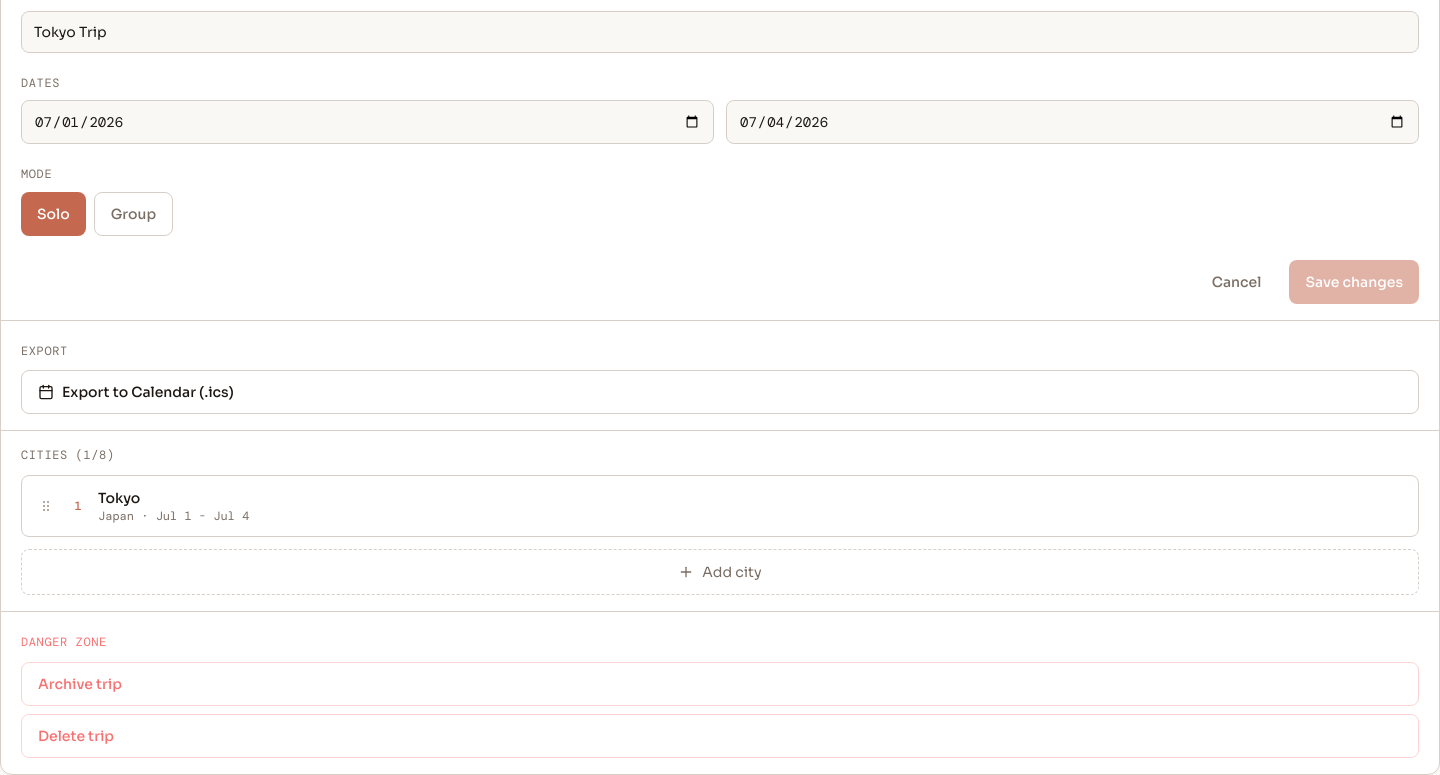
Scenario: TripSettings — delete confirmation › delete shows confirmation, cancel aborts
(page scrolled)
// Click delete to show confirmation
Click the button "Delete trip".
click(76, 736)  # box x1=21 y1=714 x2=1419 y2=758
(page scrolled)
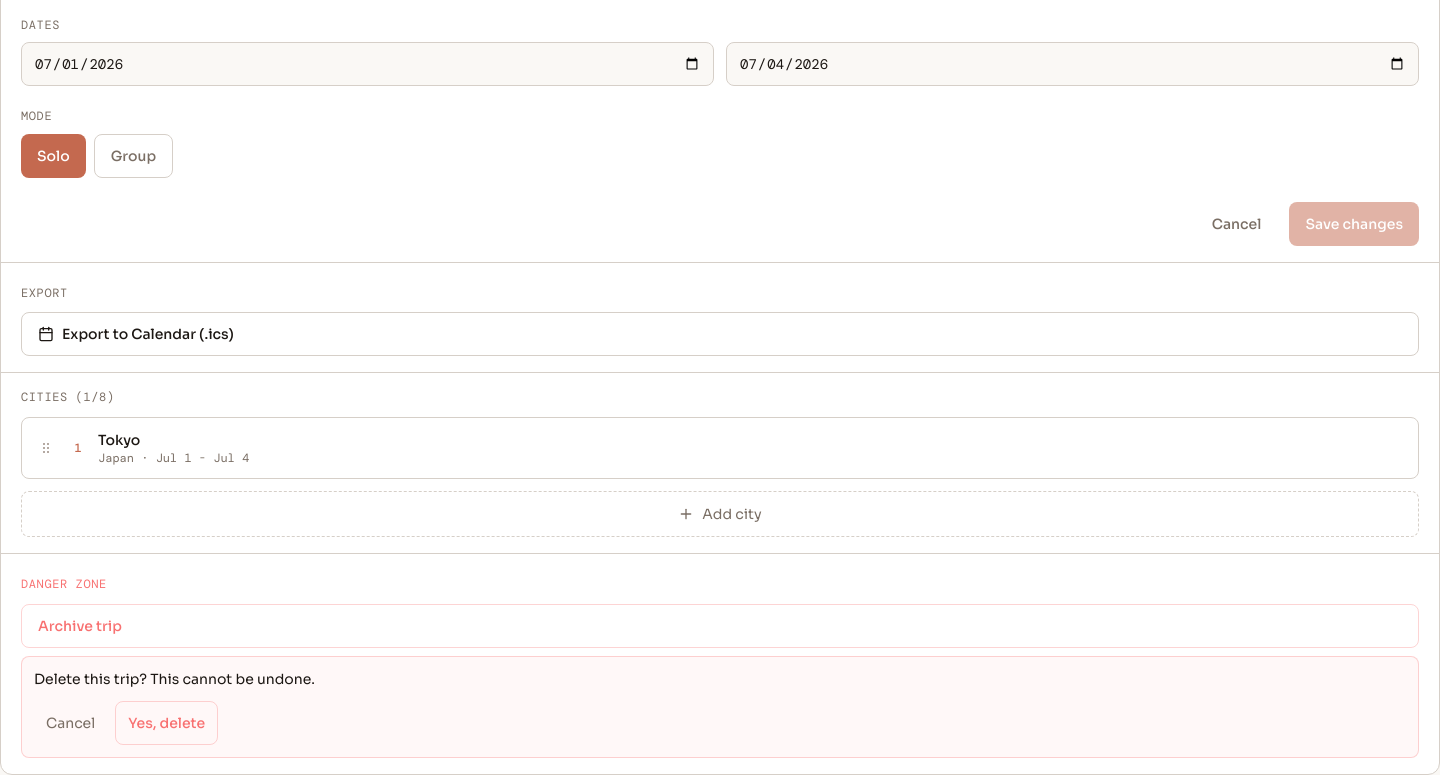
Check: the text "Delete this trip? This cannot be undone." is shown, box x1=34 y1=670 x2=315 y2=688
// The confirmation Cancel is the last one rendered (inside the danger zone)
Click the button "Cancel" below "Delete this trip? This cannot be undone.".
click(71, 723)  # box x1=34 y1=701 x2=107 y2=745
(page scrolled)
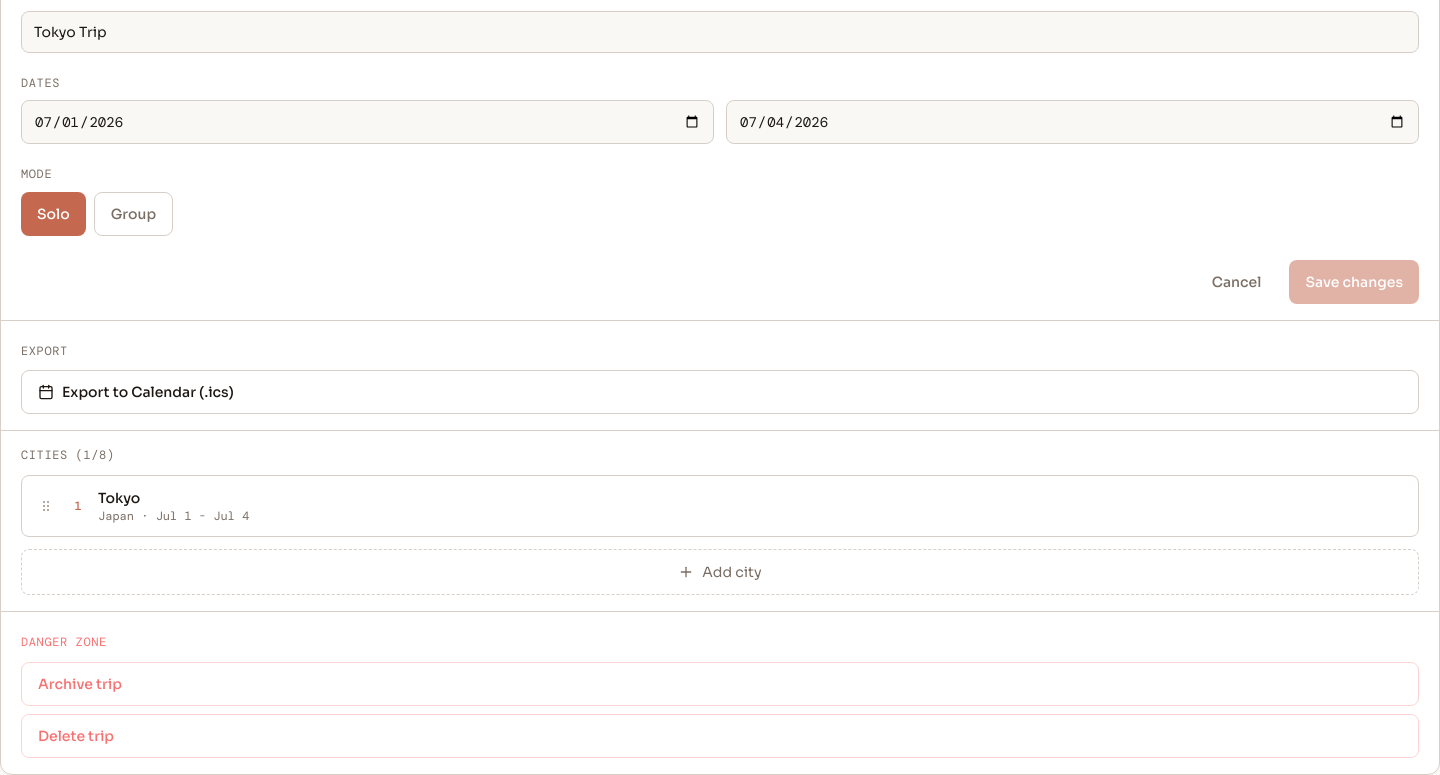
Check: the text "Delete this trip? This cannot be undone." is gone
